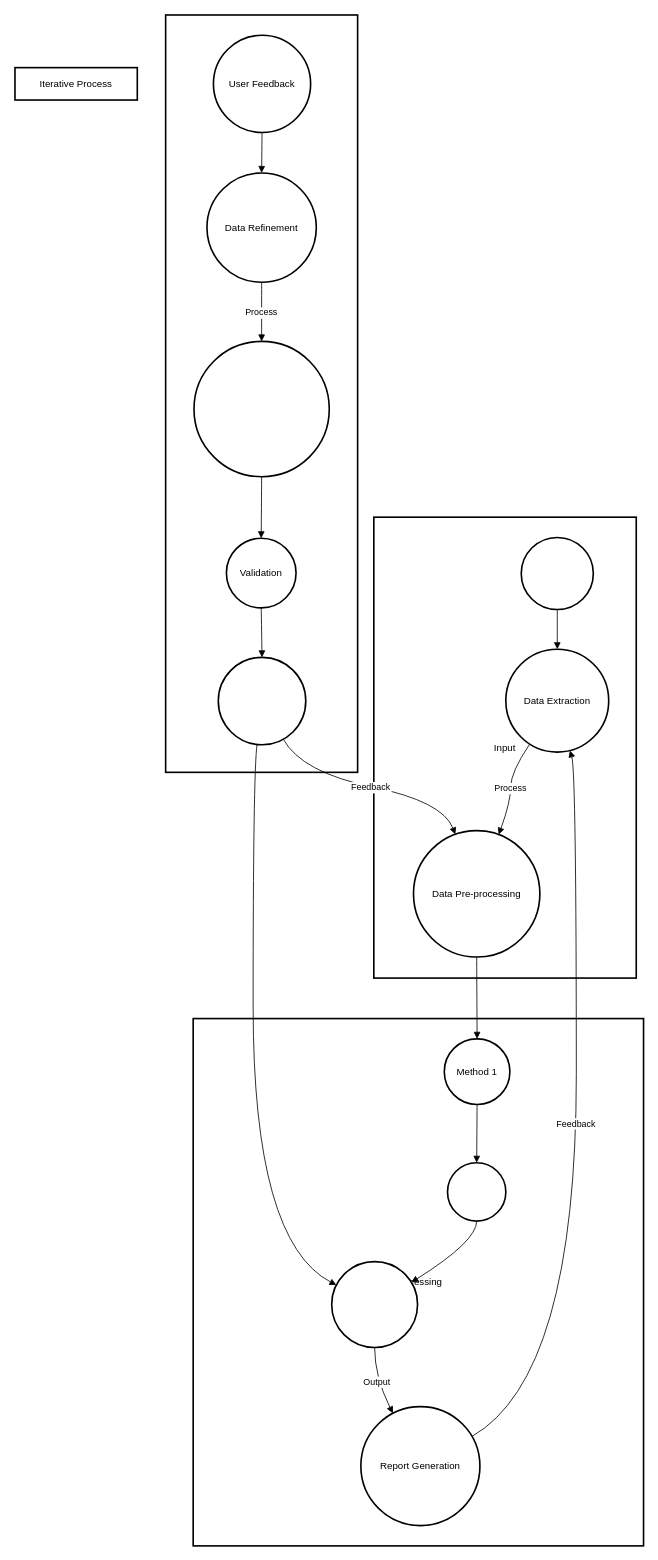
This 658x1560 diagram has some shape labels left out. Each missing label, with the centre of its shape:
Additional Processing: point (261, 408)
Analysis: point (476, 1191)
Optimization: point (261, 700)
User Input: point (557, 573)
Visualization: point (374, 1304)
